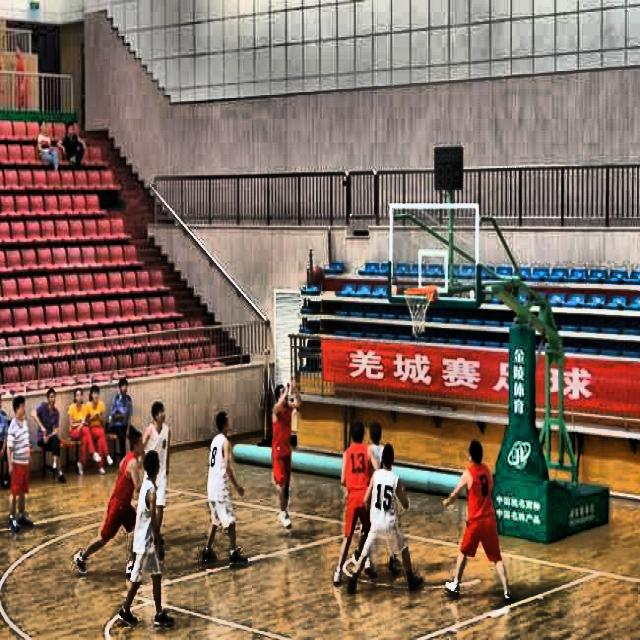rim: (403, 286, 435, 336)
